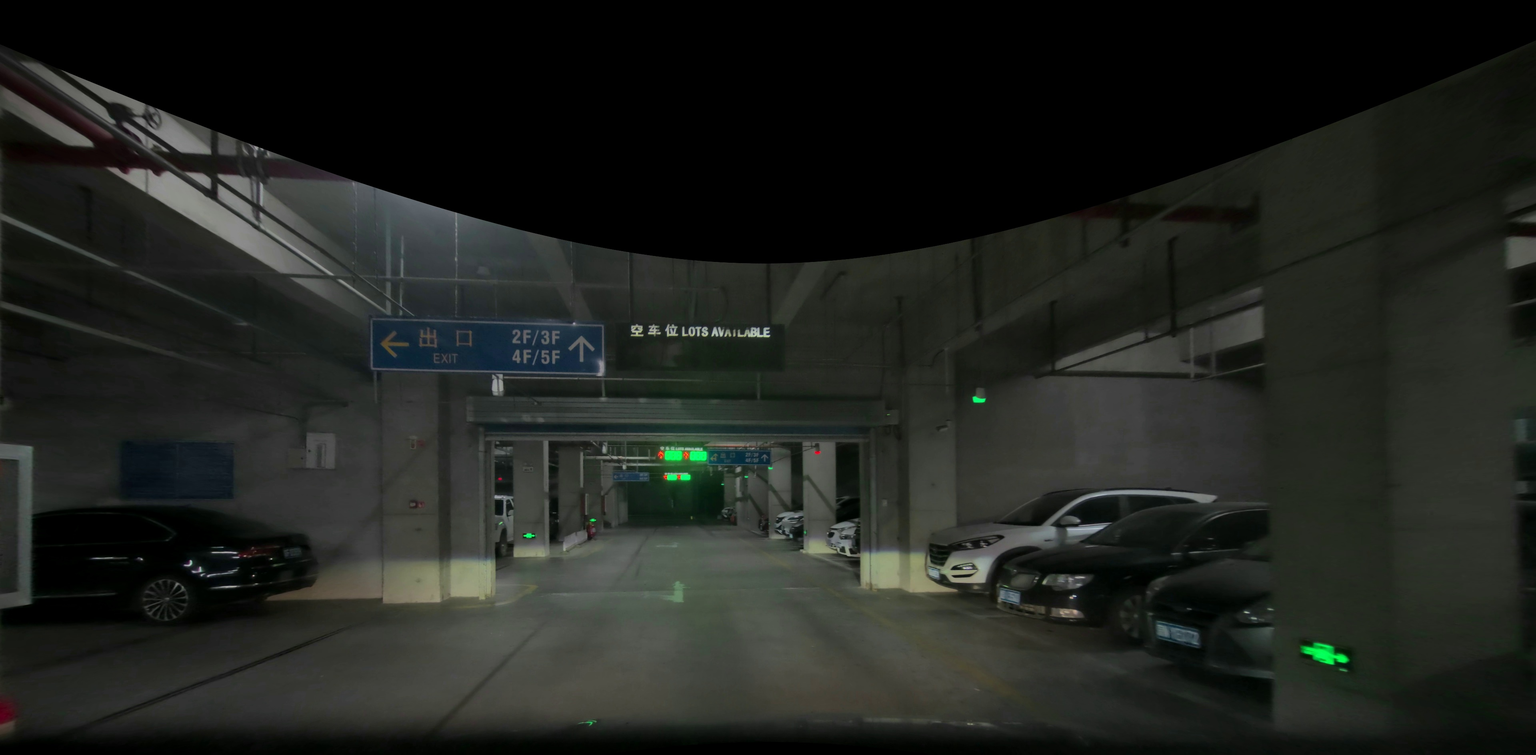2F/3F: (510, 328, 560, 345), (744, 451, 759, 457)
4F/5F: (511, 347, 559, 362), (744, 457, 759, 463)
EXIT: (431, 352, 459, 366)
exits: (1299, 638, 1354, 670), (522, 533, 536, 539)
上: (564, 334, 594, 360), (761, 454, 769, 462)
出口: (414, 326, 474, 346), (720, 452, 736, 459)
左: (378, 329, 410, 356)
左上: (639, 581, 694, 606), (708, 452, 718, 462)
空车位 LOTS AVAILABLE: (626, 322, 771, 338)
